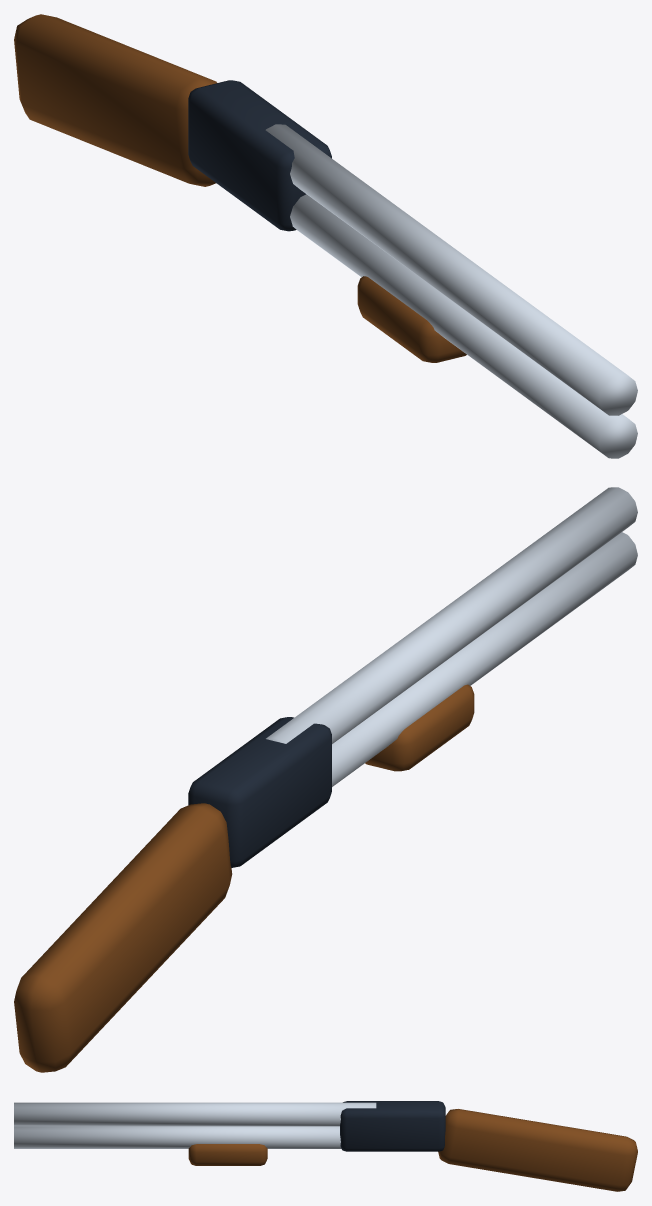
Rendered from shotgun.glb.
3 renders of one model, top to bottom at view 1: azimuth 30°, elevation 25°; view 2: azimuth 150°, elevation 25°; view 3: azimuth 270°, elevation 25°, orthographic. The views are drawn at different scales.
Parts seen in each view (by area): view 1: Stock, Barrel, Barrel2, Body, Pump; view 2: Stock, Barrel, Barrel2, Body, Pump; view 3: Stock, Barrel, Barrel2, Body, Pump.
Boxes of the visible parts, left/top/right/bottom form: Stock: left=14, top=14, right=216, bottom=186; Barrel: left=265, top=124, right=637, bottom=415; Barrel2: left=290, top=194, right=637, bottom=458; Body: left=188, top=80, right=331, bottom=231; Pump: left=357, top=276, right=466, bottom=362; Stock: left=14, top=803, right=232, bottom=1072; Barrel: left=266, top=487, right=637, bottom=743; Barrel2: left=332, top=532, right=637, bottom=786; Body: left=188, top=717, right=331, bottom=867; Pump: left=365, top=684, right=474, bottom=771; Stock: left=438, top=1109, right=637, bottom=1191; Barrel: left=14, top=1102, right=376, bottom=1126; Barrel2: left=14, top=1126, right=341, bottom=1148; Body: left=340, top=1101, right=445, bottom=1151; Pump: left=188, top=1144, right=267, bottom=1165.
Bounding box in the file's own units: 0.05 × 0.1455 × 0.9471.
